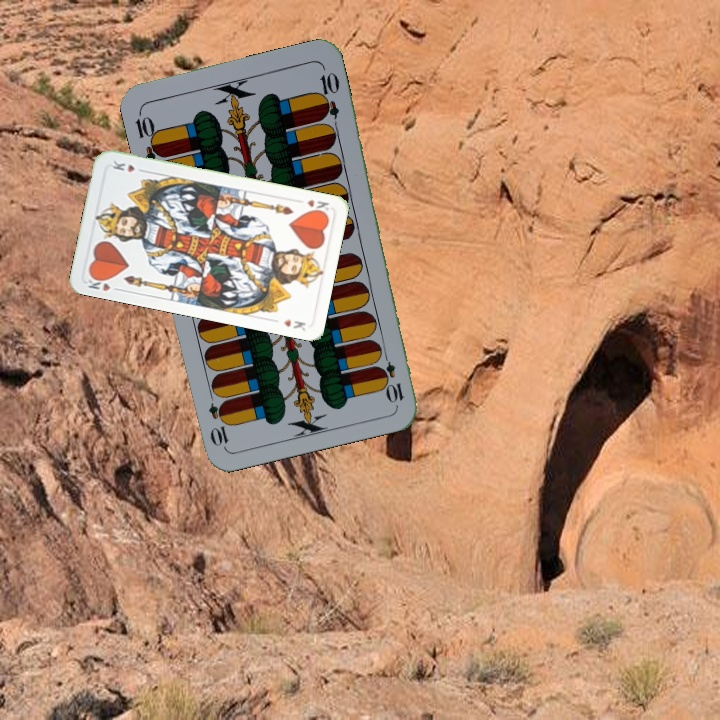E10: (131, 107, 167, 166), (377, 347, 407, 405)
HK: (83, 271, 123, 294), (303, 195, 331, 217)
